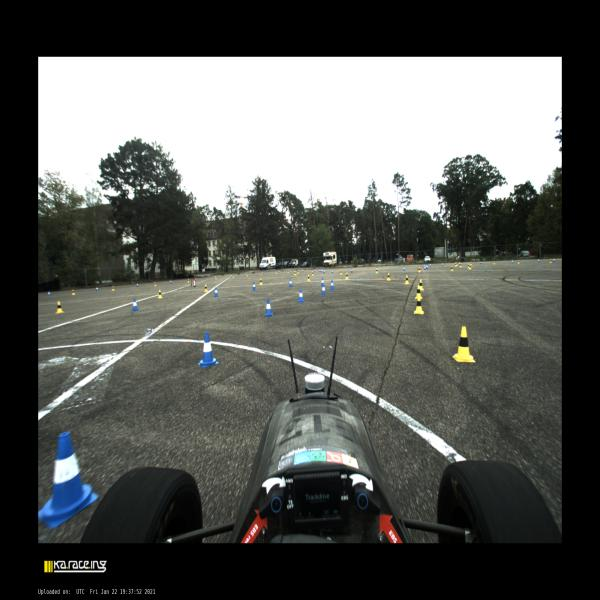blue_cone: (39, 432, 99, 526), (197, 332, 219, 368), (264, 298, 274, 317), (297, 288, 304, 302), (132, 298, 139, 311), (213, 287, 219, 297), (321, 284, 326, 295), (320, 277, 325, 286), (330, 279, 334, 290), (252, 282, 256, 290), (289, 279, 293, 287), (424, 265, 426, 270), (403, 266, 405, 271), (350, 268, 352, 273), (48, 291, 50, 296), (96, 286, 98, 291), (553, 258, 555, 262), (538, 258, 540, 262), (426, 265, 428, 269), (429, 263, 431, 267), (332, 269, 334, 273), (323, 269, 325, 273), (320, 268, 322, 272), (318, 268, 320, 272), (136, 283, 138, 287), (423, 264, 425, 267), (480, 261, 482, 264), (302, 269, 304, 272), (244, 273, 246, 276), (512, 259, 513, 263), (314, 268, 315, 272), (278, 271, 280, 273), (195, 278, 197, 280), (442, 263, 443, 266), (322, 269, 323, 272), (170, 280, 171, 283), (290, 270, 291, 273), (231, 274, 232, 277), (262, 272, 263, 274)
yellow_cone: (452, 326, 476, 363), (414, 296, 424, 315), (55, 301, 65, 314), (415, 285, 422, 299), (157, 289, 163, 299), (404, 274, 410, 284), (420, 279, 424, 290), (204, 284, 208, 292), (259, 278, 263, 286), (387, 273, 391, 281), (345, 273, 349, 280), (72, 289, 76, 295), (307, 274, 310, 282), (450, 265, 454, 271), (418, 266, 421, 272), (459, 262, 462, 268), (549, 258, 552, 264), (112, 286, 115, 291), (375, 268, 378, 273), (294, 270, 296, 276), (340, 269, 342, 275), (469, 264, 471, 270), (470, 261, 473, 265), (312, 271, 314, 276), (454, 262, 456, 267), (456, 261, 458, 266), (468, 263, 470, 268), (518, 259, 520, 264), (154, 282, 156, 286), (215, 276, 217, 280), (232, 274, 234, 278), (493, 260, 495, 264), (287, 270, 289, 274), (246, 273, 248, 276), (260, 272, 262, 275), (188, 278, 189, 283), (297, 270, 298, 274), (276, 270, 277, 274), (294, 271, 295, 274), (298, 270, 299, 273)
